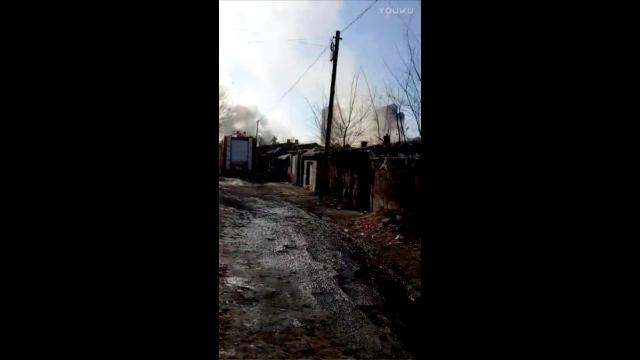smoke: (220, 106, 258, 136)
